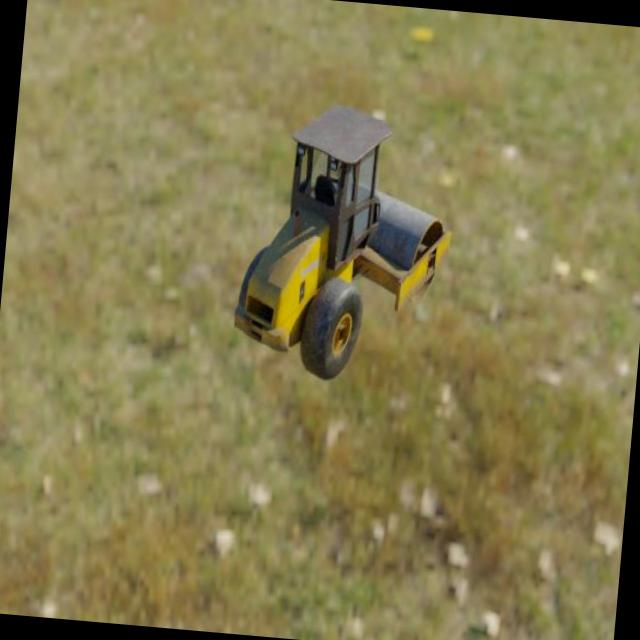Roller: (228, 96, 461, 390)
